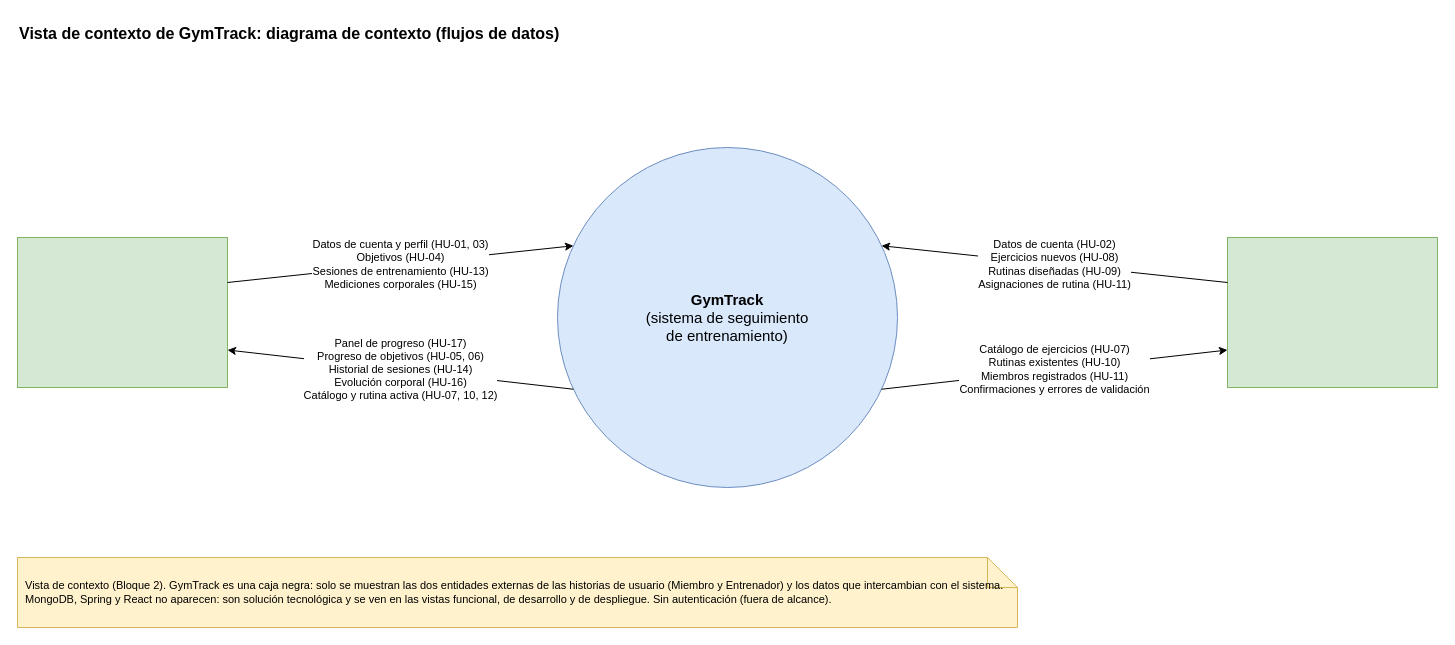
The diagram is 1455 pixels wide and 645 high, and some of its shapes have lost their labels. The centre of each missing label's shape, as x and y in pixels:
"Entrenador (entidad externa)" goes at point (1332, 312).
"Miembro (entidad externa)" goes at point (122, 312).
